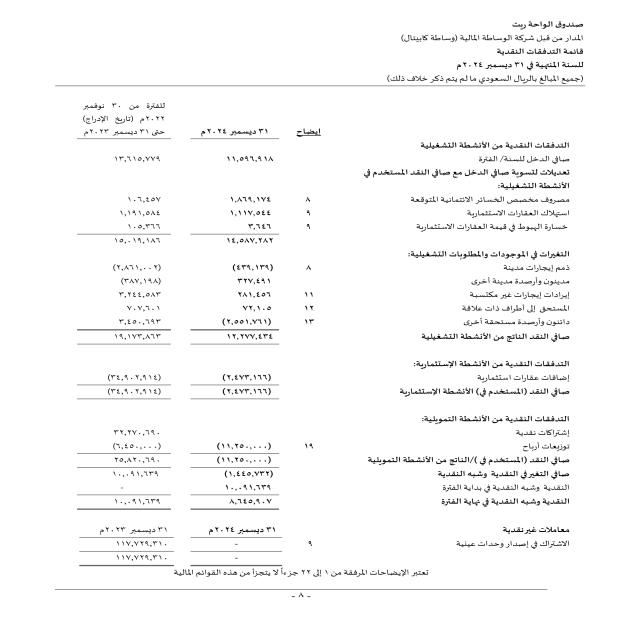financial_sheets: (484, 48, 594, 56)
table: (29, 102, 342, 561)
